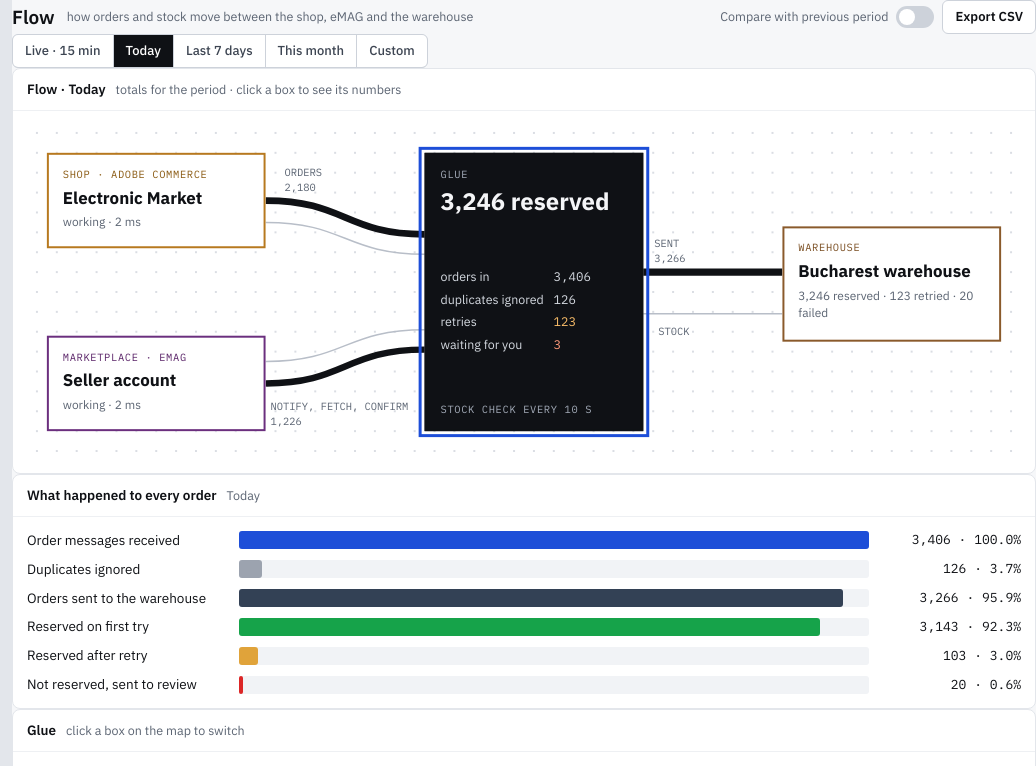
Test: keeps the last numbers on screen while a new range loads
This screenshot has width=1036, height=766.
Expected: the text "Order messages received" is shown, [27,531,180,549]
Click the button "This month" at (311, 51), box [266,35,356,67]
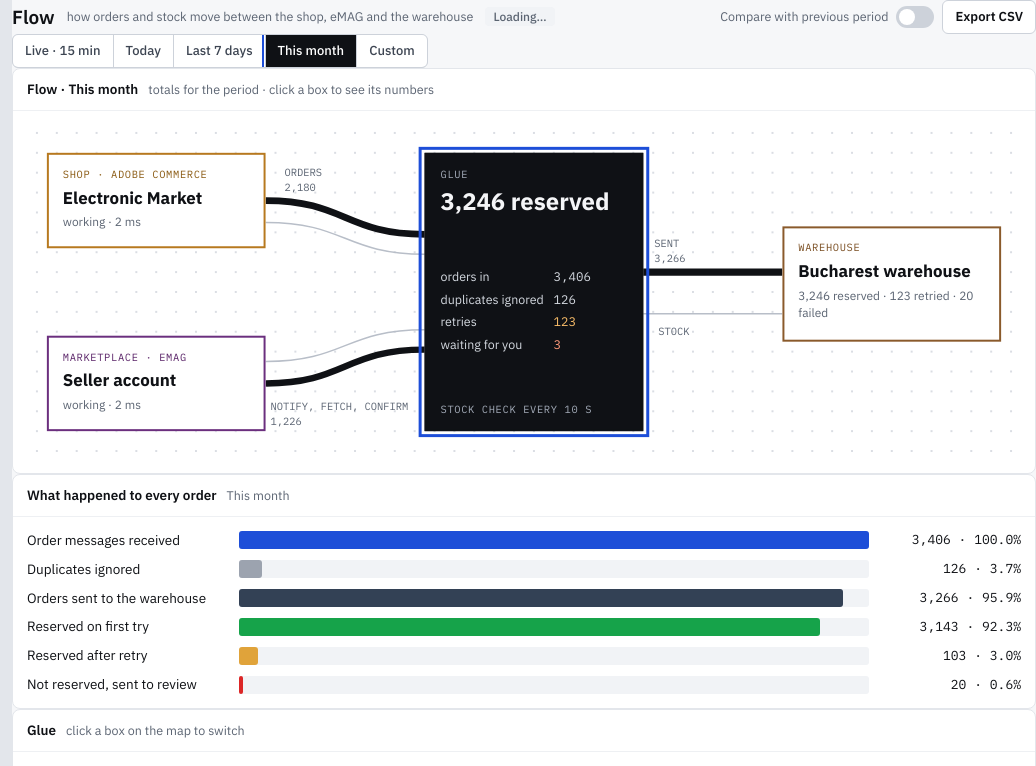
Expected: the text "Order messages received" is shown, [27,531,180,549]
Expected: the message reads "Loading…", [493,9,547,24]
Expected: the heading "Flow · This month" is shown, [27,80,138,99]
